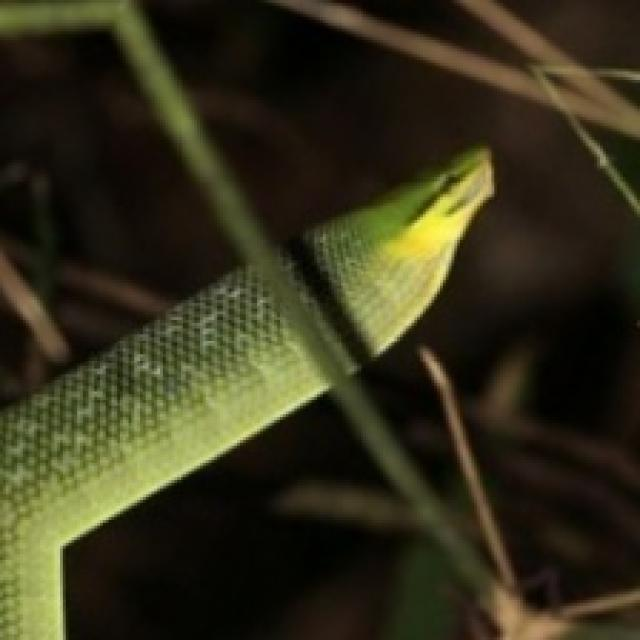red-tailed green ratsnake: (0, 266, 326, 637), (280, 149, 491, 354)
